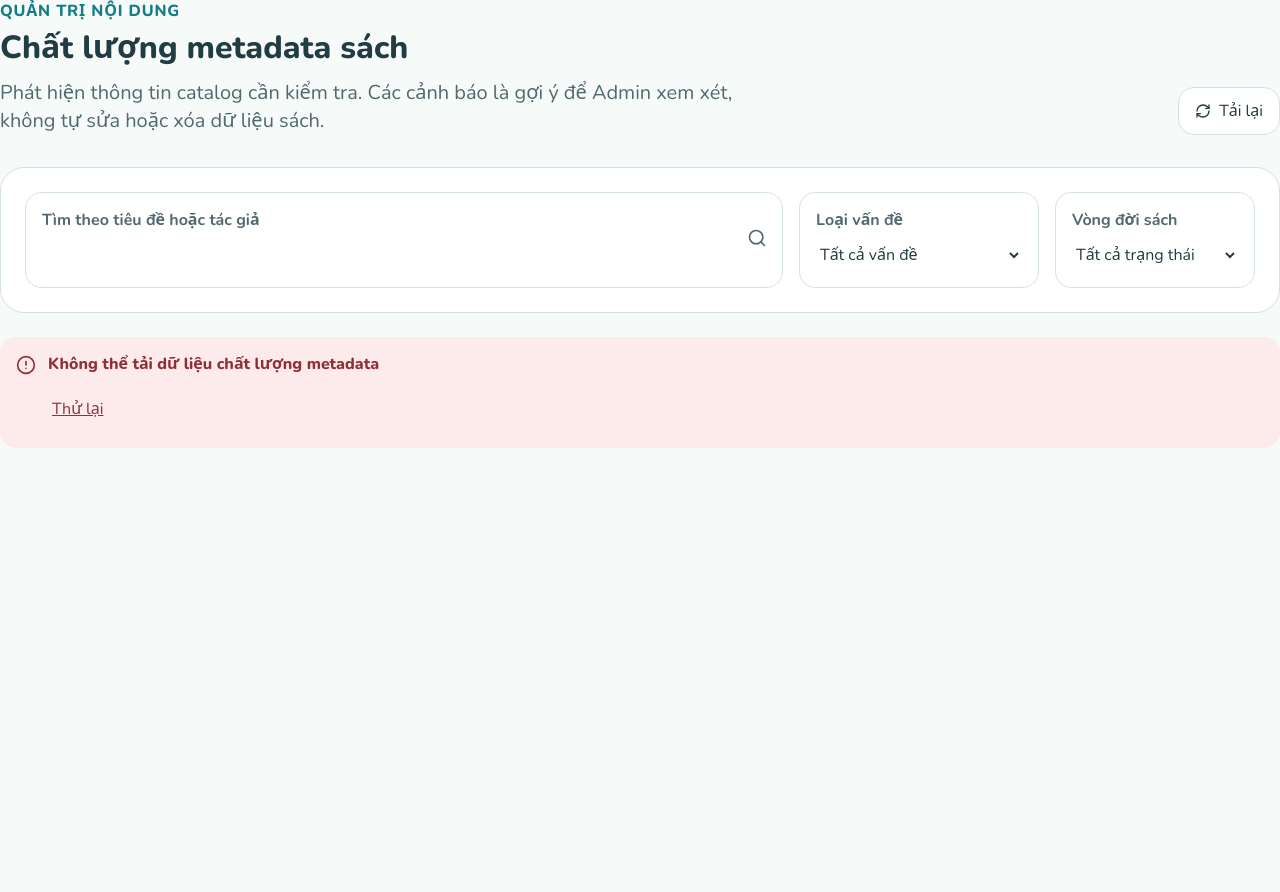
Test: AdminMetadataQualityScreen › shows a safe error and allows retry
Expected: the text "Không thể tải dữ liệu chất lượng metadata" is shown, [48,353,379,376]
Click the button "Thử lại" at (78, 410), box [48,388,108,432]
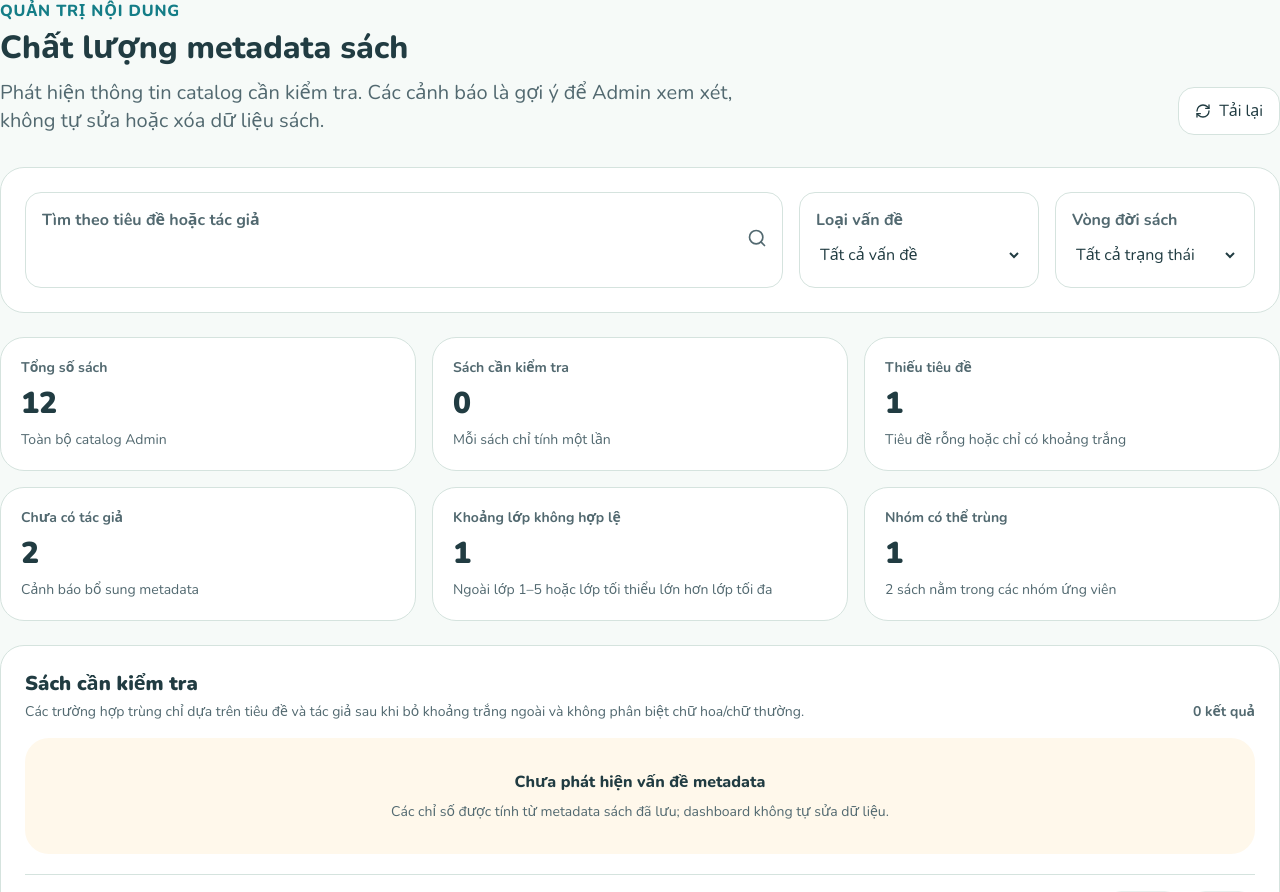
Now the heading "Chưa phát hiện vấn đề metadata" is shown, box [515,771,765,793]
